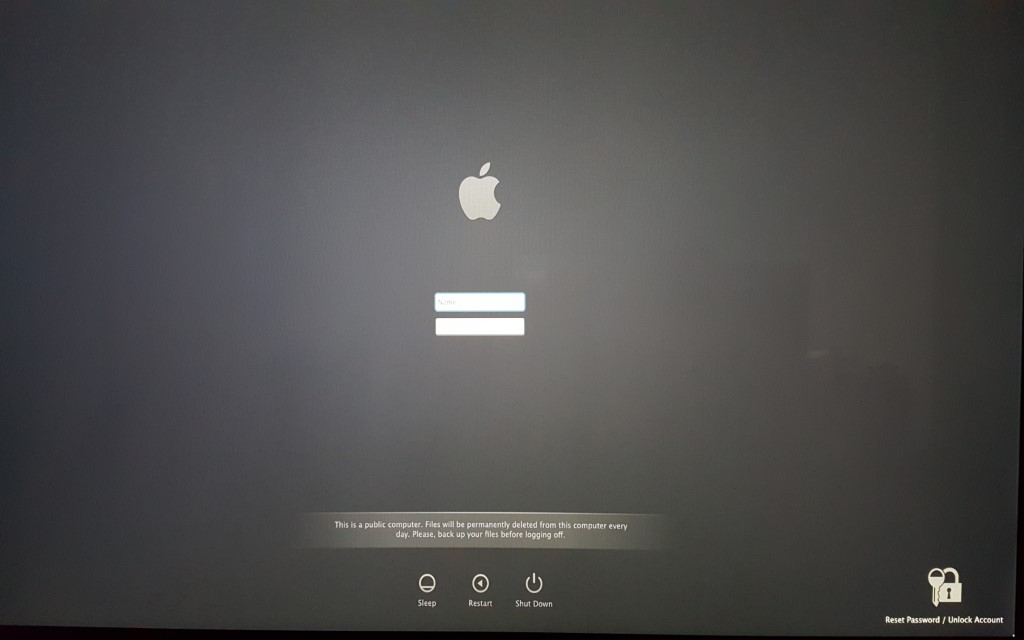textbox: (435, 291, 524, 313), (434, 317, 526, 338)
